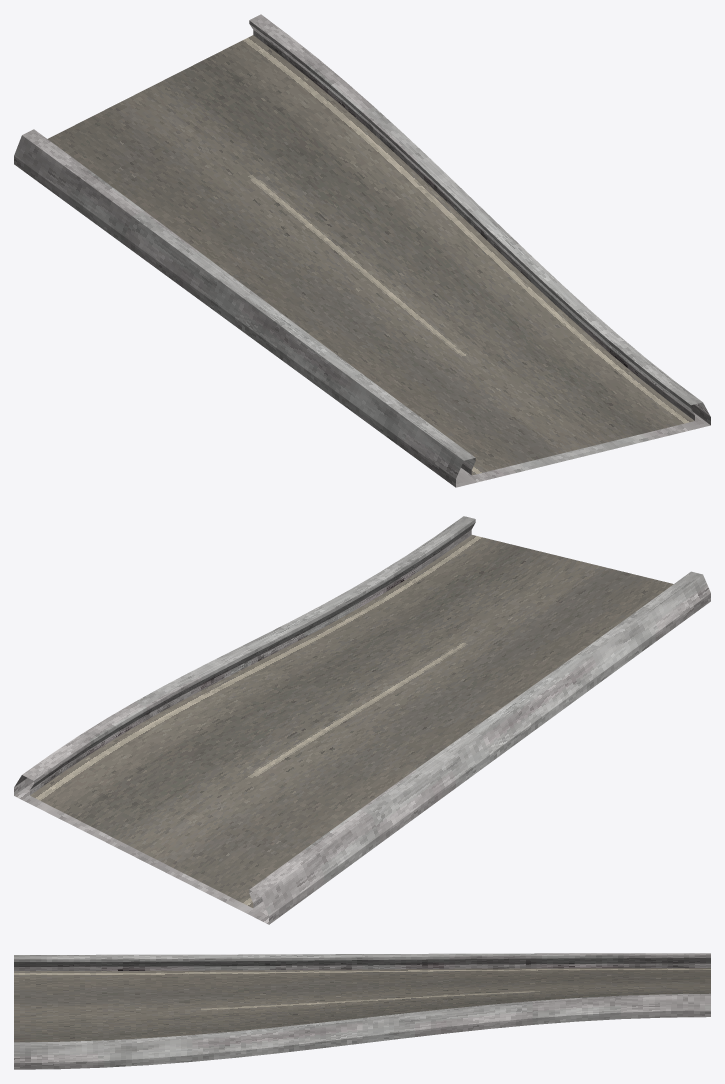
Rendered from road-Straight-Flat-HalfBankedLeft-Even-Center-Size3.glb.
The picture shows the model from 3 angles, top to bottom: view 1: azimuth 30°, elevation 25°; view 2: azimuth 150°, elevation 25°; view 3: azimuth 270°, elevation 25°; orthographic projection. The views are drawn at different scales.
Parts seen in each view (by area): view 1: road-Straight-Flat-HalfBankedLeft-Even-Center-Size3; view 2: road-Straight-Flat-HalfBankedLeft-Even-Center-Size3; view 3: road-Straight-Flat-HalfBankedLeft-Even-Center-Size3.
Boxes of the visible parts, box(x1,y1,x2,y2) form: road-Straight-Flat-HalfBankedLeft-Even-Center-Size3: box(14, 14, 710, 487); road-Straight-Flat-HalfBankedLeft-Even-Center-Size3: box(14, 516, 710, 924); road-Straight-Flat-HalfBankedLeft-Even-Center-Size3: box(14, 953, 710, 1069).
Bounding box in the file's own units: 1 × 0.3359 × 3.
2 materials, 2 textured.
